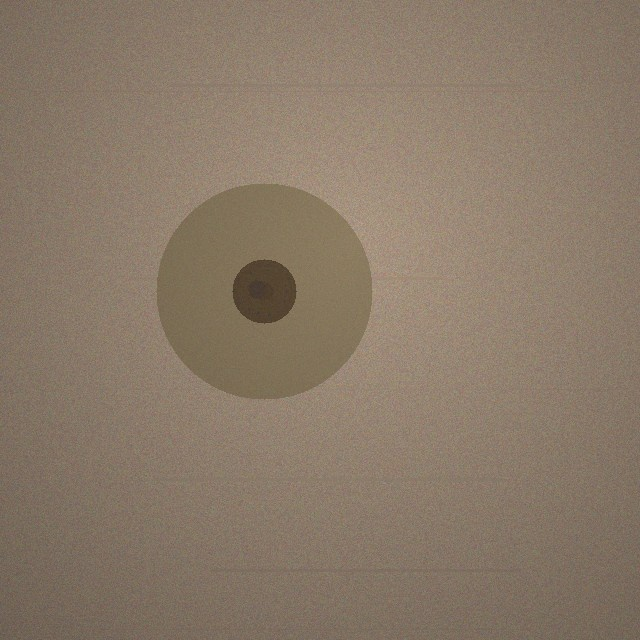cold_weld: (156, 183, 372, 399)
